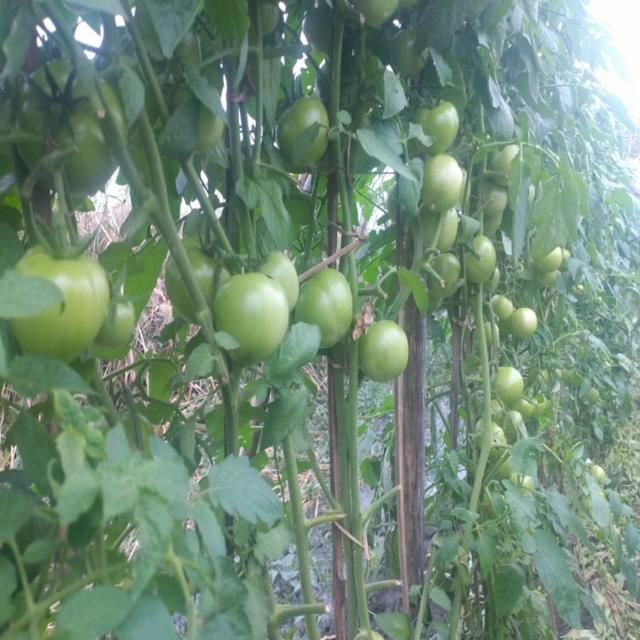tomato: (33, 58, 111, 197), (31, 252, 106, 360), (220, 279, 292, 357), (360, 320, 413, 386), (311, 266, 350, 348), (264, 247, 310, 309), (418, 158, 464, 216), (423, 102, 461, 158), (108, 296, 141, 358), (187, 233, 227, 280), (274, 95, 322, 133), (465, 235, 499, 286), (168, 270, 199, 319), (389, 43, 429, 80), (483, 187, 511, 239), (355, 1, 401, 25), (493, 363, 522, 398), (537, 247, 568, 278), (259, 1, 286, 34), (515, 301, 537, 341), (438, 218, 461, 250), (492, 289, 515, 317), (493, 398, 507, 431), (519, 396, 537, 420), (594, 461, 612, 483), (499, 144, 514, 169)
